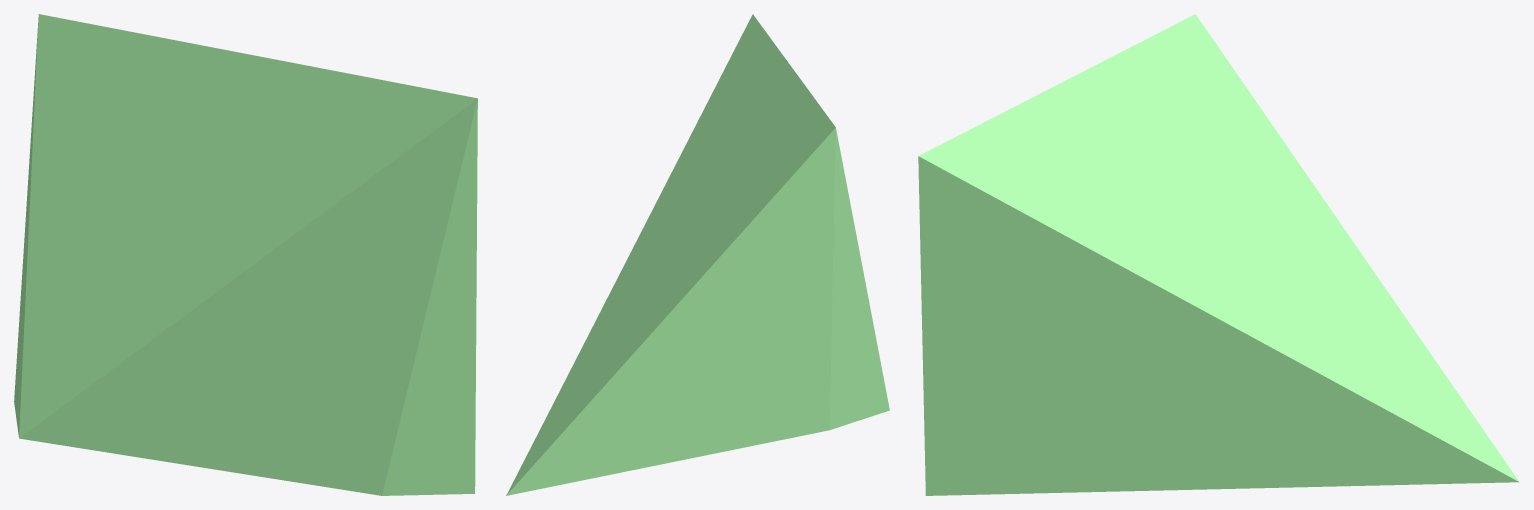
File: UMIRobot_UMIRobot_link_3_convex_coll_10.dae
3 renders of one model, left to right at view 1: azimuth 30°, elevation 25°; view 2: azimuth 150°, elevation 25°; view 3: azimuth 270°, elevation 25°, orthographic. The views are drawn at different scales.
Parts seen in each view (by area): view 1: node; view 2: node; view 3: node.
Part boxes in pixels (x1,y1,x2,y2): node: [14, 14, 477, 495]; node: [506, 14, 889, 495]; node: [918, 14, 1519, 495].
Size of the model in its own units: 0.00822 by 0.0104 by 0.0155.
